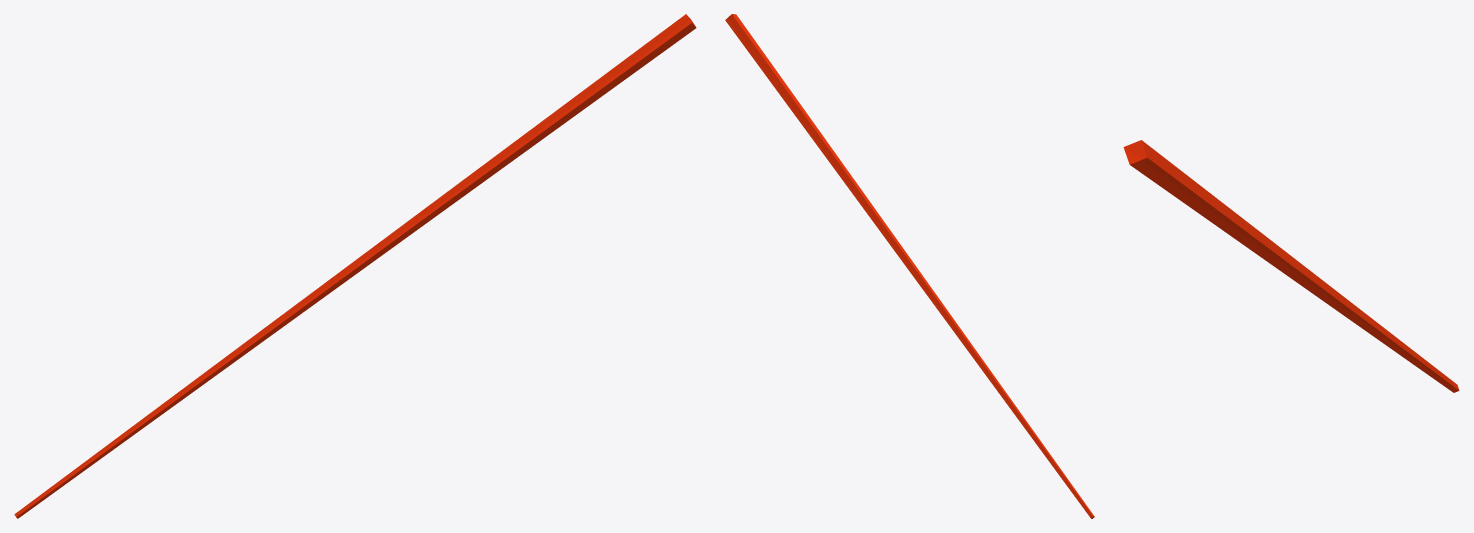
The model's file is Event_421115418_EBrechit_34.fbx.
3 views of the same model, side by side, from view 1: azimuth 30°, elevation 25°; view 2: azimuth 150°, elevation 25°; view 3: azimuth 270°, elevation 25° (orthographic). The views are drawn at different scales.
Visible parts, largest first — view 1: Model; view 2: Model; view 3: Model.
Boxes of the visible parts, left/top/right/bottom form: Model: left=14, top=14, right=696, bottom=518; Model: left=725, top=14, right=1094, bottom=518; Model: left=1123, top=140, right=1459, bottom=392.
Size of the model in its own units: 9.29 by 6.78 by 3.03.
